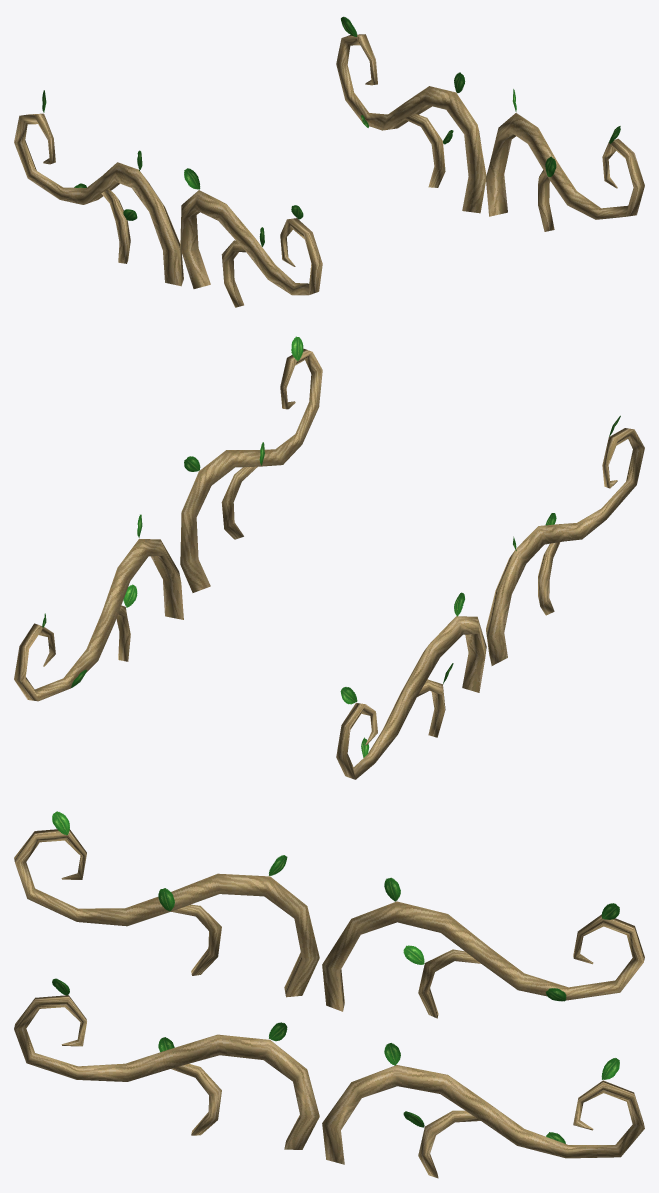
The model's file is EKH_ENTRANCE_PS_EN_BRIDGETRIM65__GX.obj.
3 views of the same model, one above another, from view 1: azimuth 30°, elevation 25°; view 2: azimuth 150°, elevation 25°; view 3: azimuth 270°, elevation 25° (orthographic). The views are drawn at different scales.
Parts seen in each view (by area): view 1: ridgeTrim65__GX; view 2: ridgeTrim65__GX; view 3: ridgeTrim65__GX.
Part boxes in pixels (x1=…): ridgeTrim65__GX: x1=14, y1=16, x2=644, y2=307; ridgeTrim65__GX: x1=14, y1=336, x2=644, y2=779; ridgeTrim65__GX: x1=14, y1=811, x2=644, y2=1178.
Size of the model in its own units: 397 by 216 by 610.
